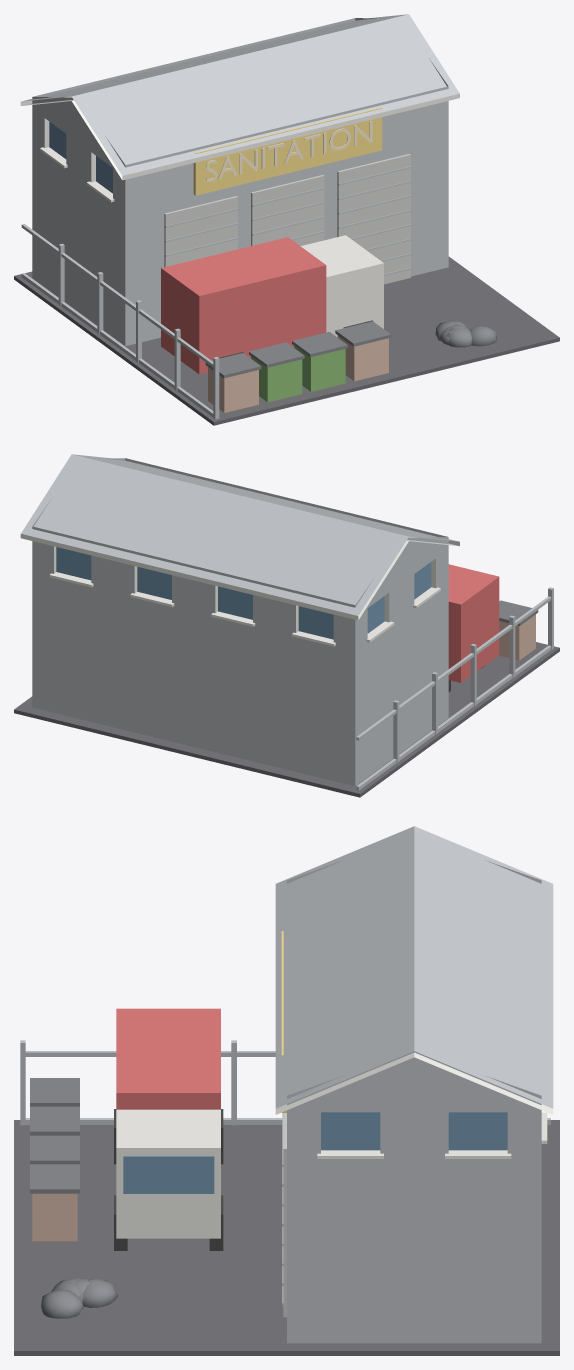
File: garbage_depot.glb
The picture shows the model from 3 angles, top to bottom: view 1: azimuth 30°, elevation 25°; view 2: azimuth 150°, elevation 25°; view 3: azimuth 270°, elevation 25°; orthographic projection. The views are drawn at different scales.
Parts seen in each view (by area): view 1: garbage_depot; view 2: garbage_depot; view 3: garbage_depot.
Part boxes in pixels (bbox=[...]): garbage_depot: bbox=[14, 14, 559, 425]; garbage_depot: bbox=[14, 454, 559, 797]; garbage_depot: bbox=[14, 826, 559, 1355].
Bounding box in the file's own units: 12 × 7.48 × 12.
